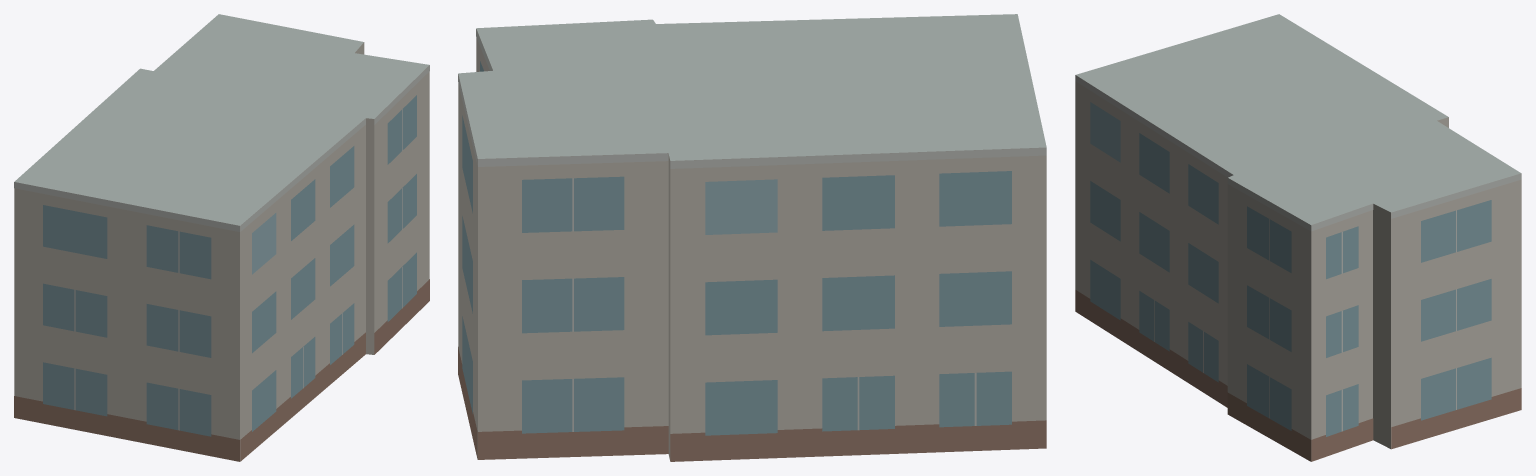
File: survey-upis-32971896.glb
3 renders of one model, left to right at view 1: azimuth 30°, elevation 25°; view 2: azimuth 150°, elevation 25°; view 3: azimuth 270°, elevation 25°, orthographic. The views are drawn at different scales.
Visible parts, largest first — view 1: survey-upis-32971896.tmp; view 2: survey-upis-32971896.tmp; view 3: survey-upis-32971896.tmp.
Boxes of the visible parts, box(x1,y1,x2,y2) form: survey-upis-32971896.tmp: box(14, 14, 429, 461); survey-upis-32971896.tmp: box(458, 14, 1046, 461); survey-upis-32971896.tmp: box(1075, 14, 1521, 461).
Bounding box in the file's own units: 17.52 × 9.15 × 15.64.
